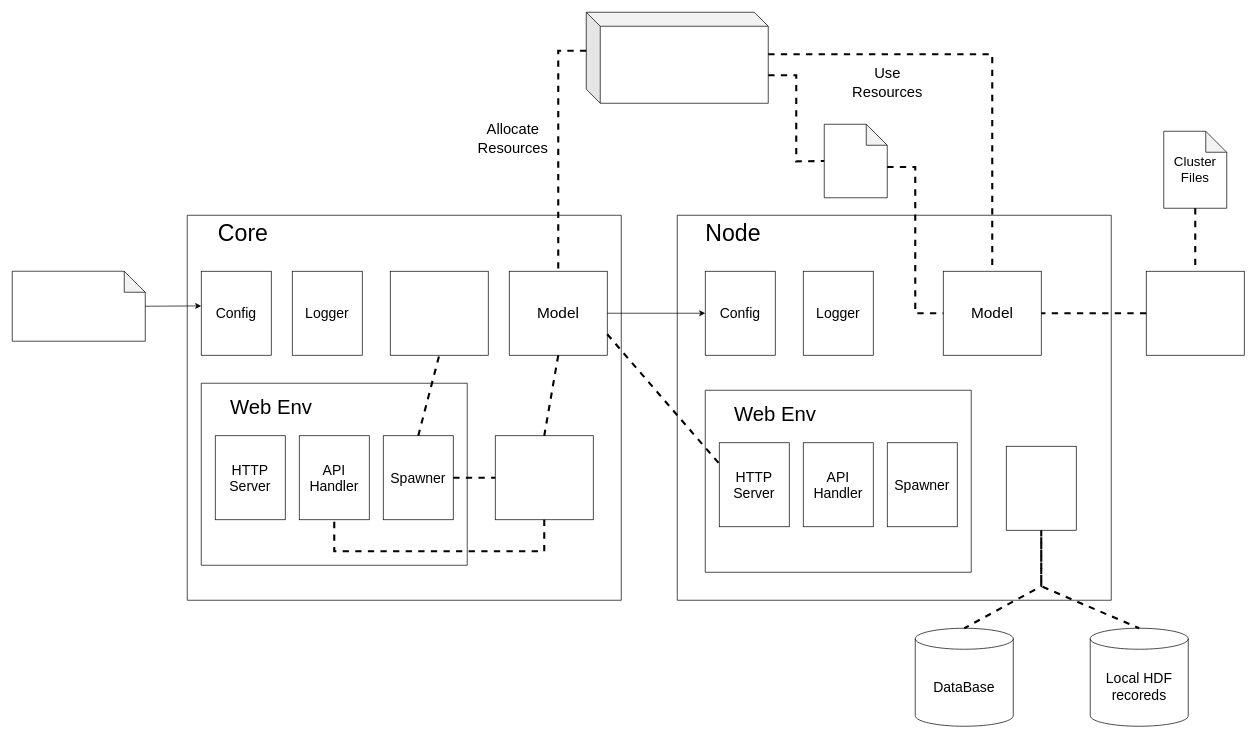
This 1257x739 diagram has some shape labels left out. Each missing label, with the centre of its shape:
Computing Resources: the point at 677,57
Configuration File: the point at 78,306
Data Fetcher: the point at 1041,488
Model Factory: the point at 439,313
Model Files: the point at 855,161
Model Lib: the point at 1195,313
System: the point at 544,477
